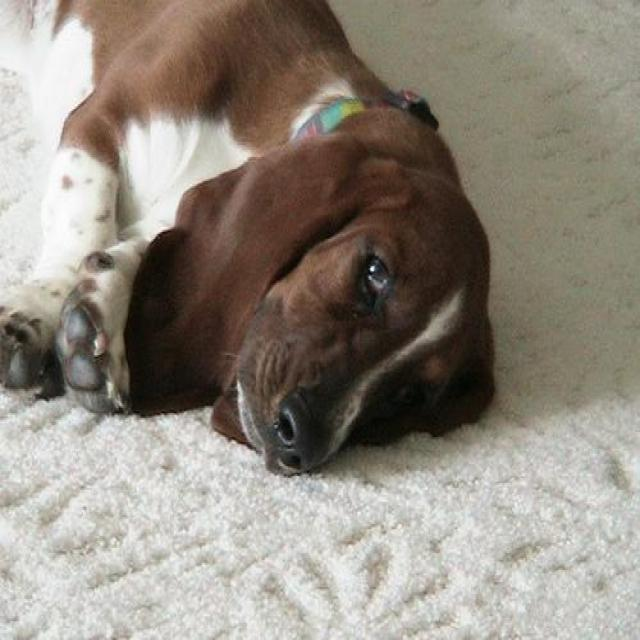basset: (1, 0, 499, 469)
